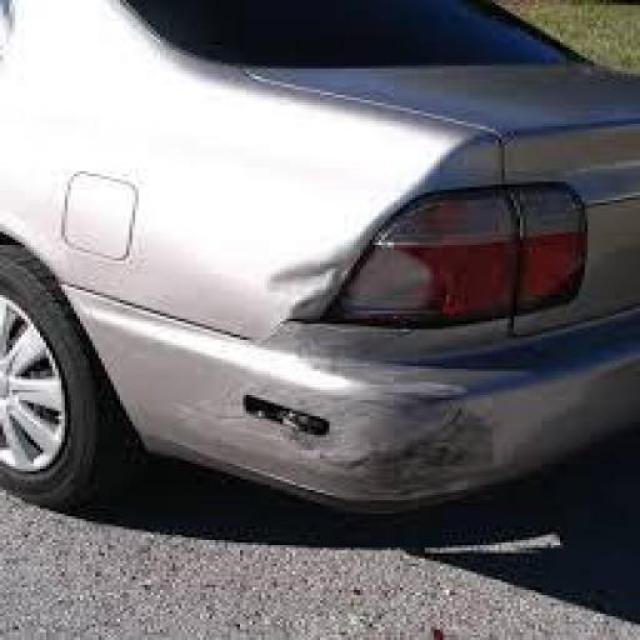dent: (254, 253, 353, 313)
scratch: (174, 325, 510, 503)
